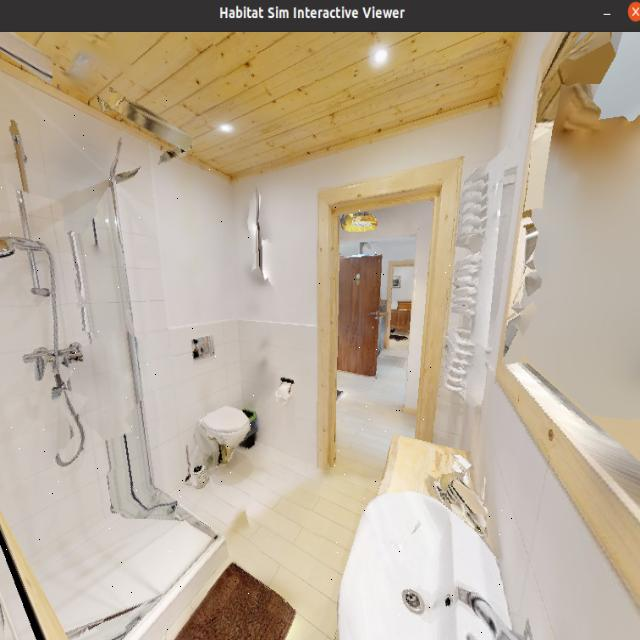door-frame: (310, 186, 452, 485)
shower: (0, 99, 249, 640)
sink: (326, 468, 532, 640)
toilet: (185, 392, 272, 474)
